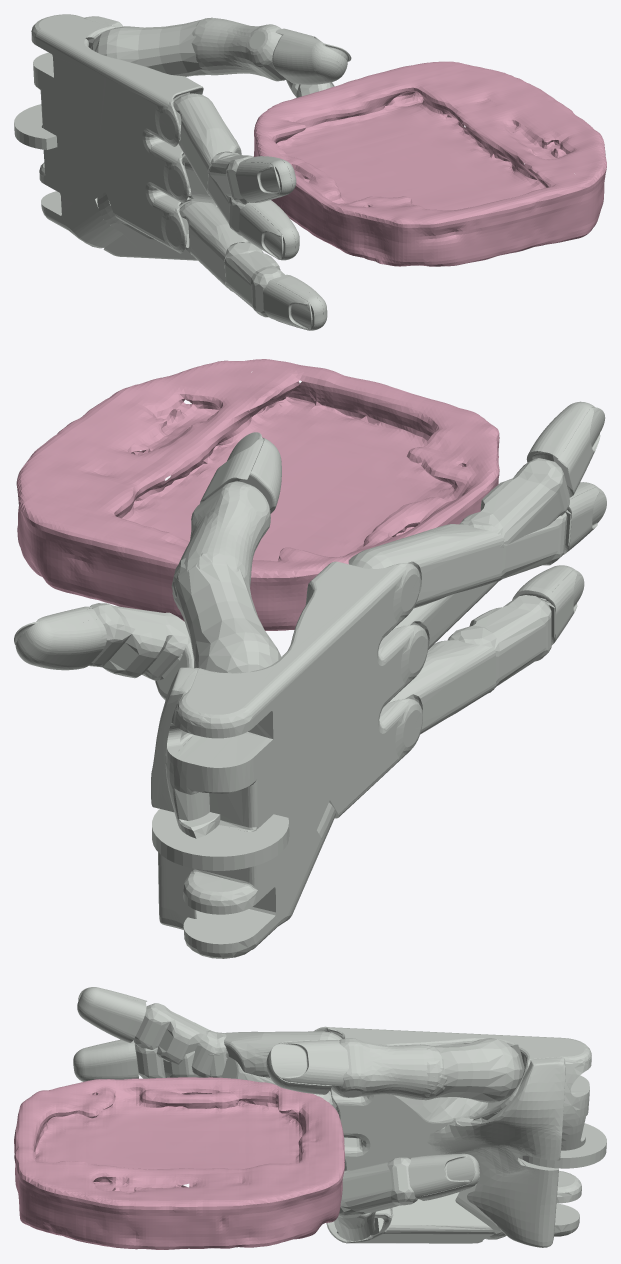
The picture shows the model from 3 angles, top to bottom: view 1: azimuth 30°, elevation 25°; view 2: azimuth 150°, elevation 25°; view 3: azimuth 270°, elevation 25°; orthographic projection. The views are drawn at different scales.
Parts seen in each view (by area): view 1: hand, world; view 2: hand, world; view 3: hand, world.
Boxes of the visible parts, <box> form: hand: <box>14,14,351,330</box>; world: <box>253,61,606,266</box>; hand: <box>14,401,606,958</box>; world: <box>16,359,499,630</box>; hand: <box>73,987,606,1247</box>; world: <box>14,1077,344,1249</box>.
Size of the model in its own units: 0.1564 by 0.1091 by 0.2355.
